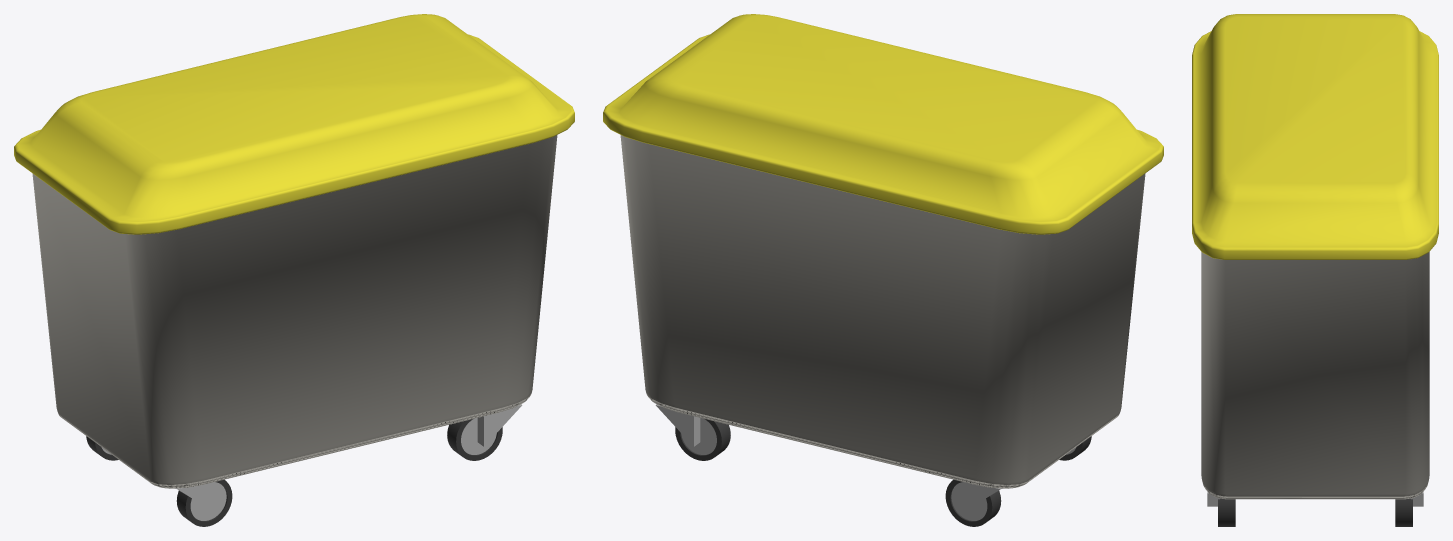
The model's file is contenedor amarillo.glb.
3 views of the same model, side by side, from view 1: azimuth 30°, elevation 25°; view 2: azimuth 150°, elevation 25°; view 3: azimuth 270°, elevation 25° (orthographic). The views are drawn at different scales.
Visible parts, largest first — view 1: Cube; view 2: Cube; view 3: Cube.
Part boxes in pixels (x1=…): Cube: x1=14, y1=14, x2=574, y2=526; Cube: x1=603, y1=14, x2=1163, y2=526; Cube: x1=1192, y1=14, x2=1438, y2=526.
Bounding box in the file's own units: 2.94 × 2.23 × 1.39.
